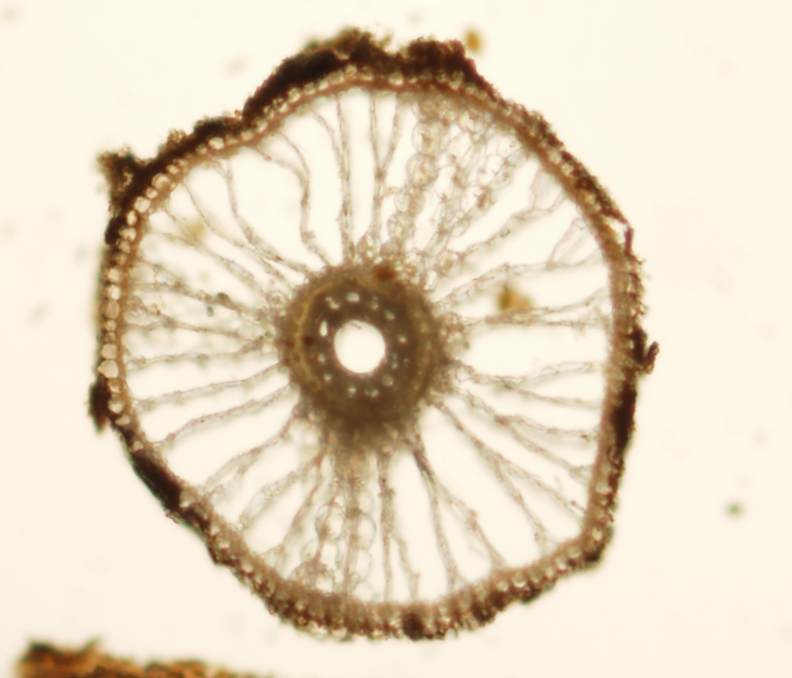root: (113, 75, 631, 623)
stele: (294, 274, 437, 429)
